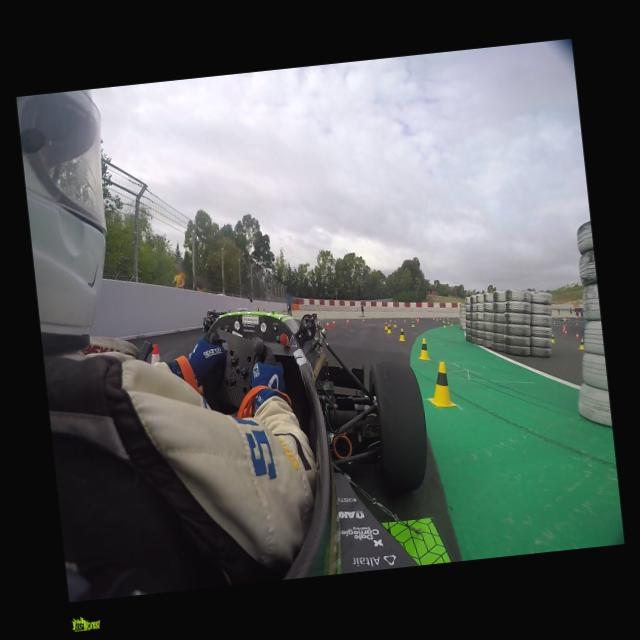orange_cone: (150, 343, 168, 389), (324, 320, 329, 330), (330, 318, 336, 326), (360, 317, 364, 324), (574, 333, 578, 340), (345, 318, 349, 324), (402, 318, 406, 324), (415, 317, 419, 323), (388, 318, 392, 324), (563, 329, 566, 334)
yellow_cone: (424, 361, 456, 409), (415, 338, 429, 362), (397, 327, 405, 341), (576, 339, 584, 350), (386, 323, 392, 334), (549, 334, 554, 344), (383, 320, 388, 330), (410, 320, 414, 328), (392, 320, 396, 327), (446, 318, 449, 324), (442, 322, 446, 326), (450, 320, 452, 325)
